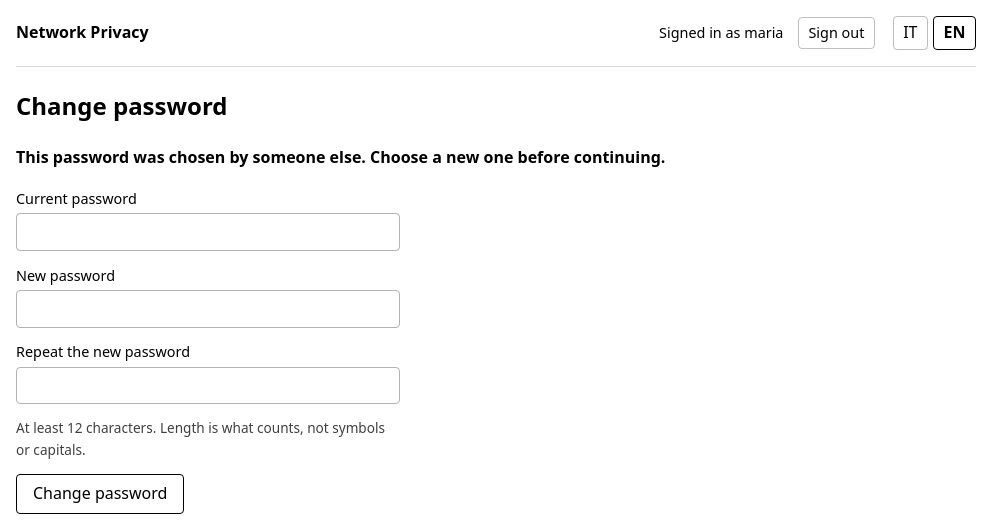
it: Passwords › leads from a forced change to the data once the password is changed
The width and height of the screenshot is (993, 531).
Type "the-password-set-by-root" into the password field named "currentPassword" at (208, 232), box [16, 213, 400, 251]
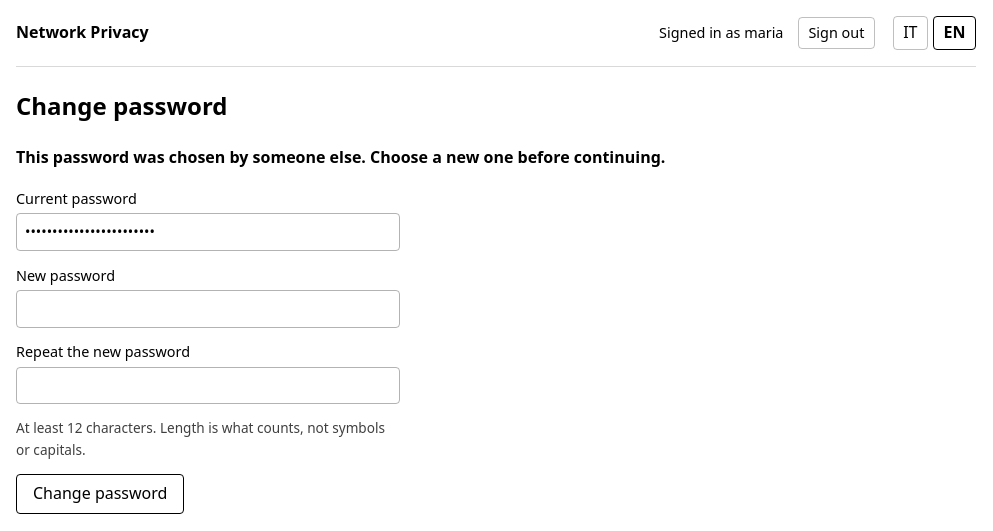
Type "a-password-of-my-own" into the password field named "newPassword" at (208, 309), box [16, 290, 400, 328]
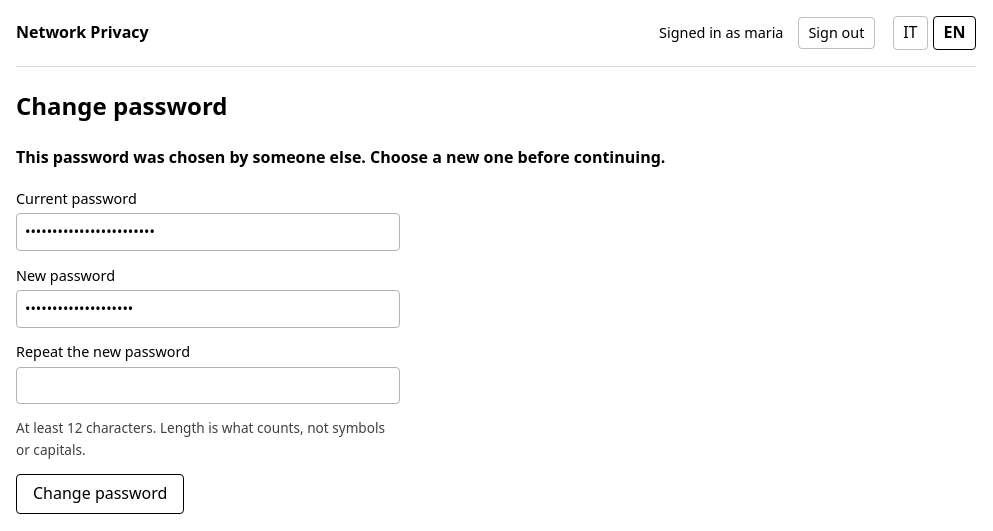
Type "a-password-of-my-own" into the password field named "repeatedPassword" at (208, 386), box [16, 367, 400, 404]
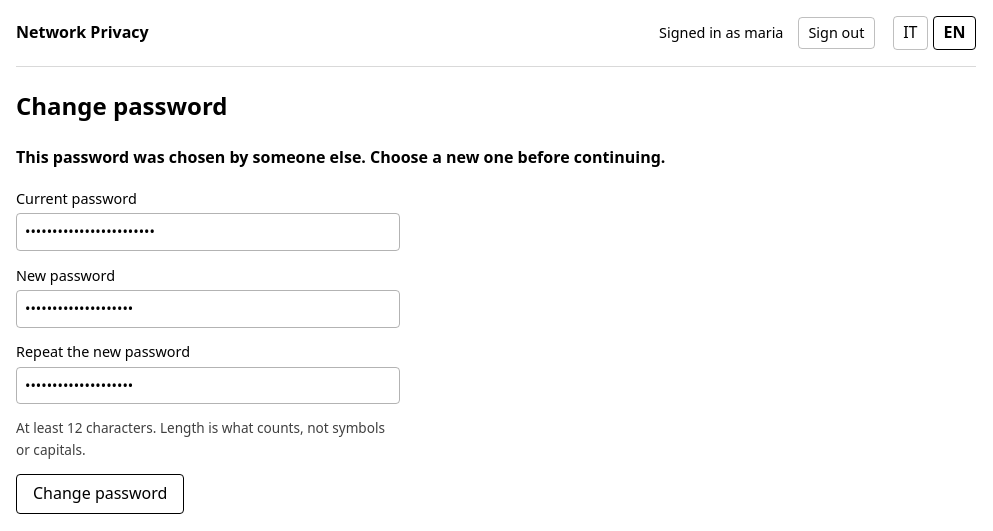
Submit the form, box [16, 187, 400, 514]
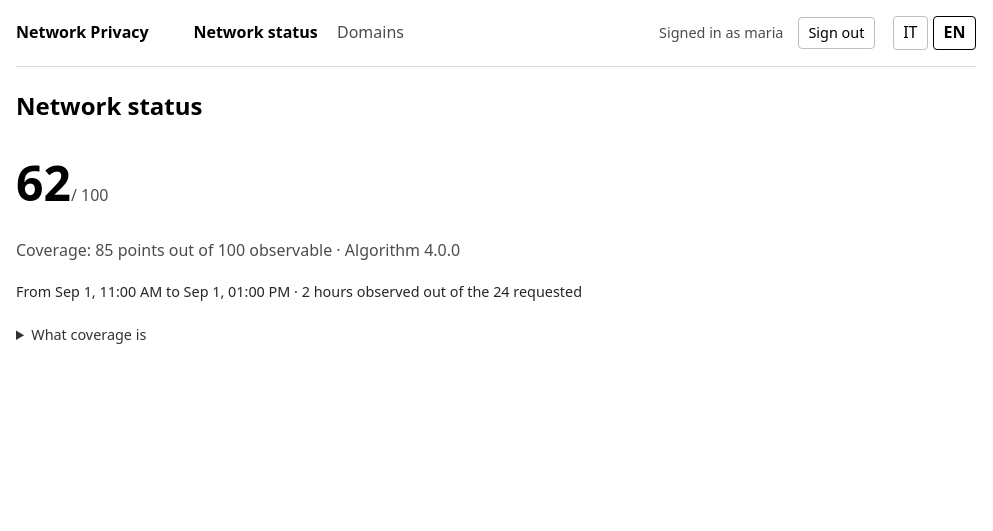
Expected: the element with class "overall" is shown, [16, 150, 108, 215]
